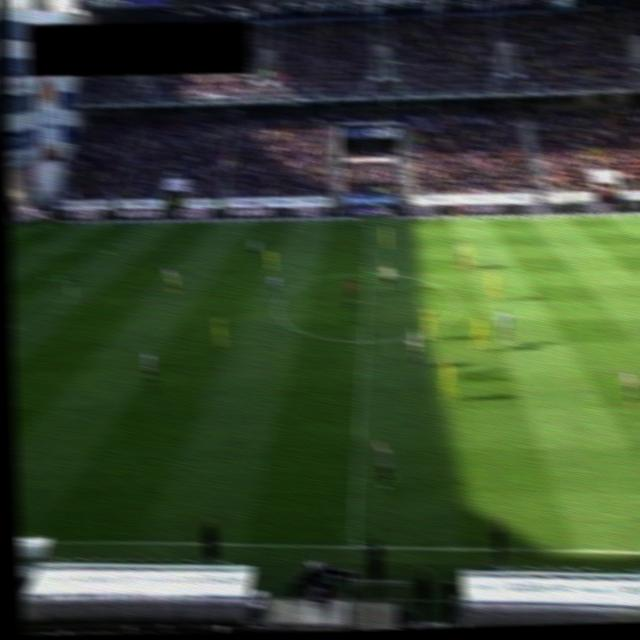bigarea_top_inner: (95, 240, 115, 256), (636, 231, 640, 248)
corner: (32, 216, 52, 230)
halfcircle_bottom: (352, 326, 377, 352)
halfcircle_top: (357, 262, 377, 281)
midline_bottom_intersection: (340, 530, 370, 554)
midline_top_intersection: (360, 208, 378, 226)
top_arc_area_intersection: (54, 270, 75, 286)
